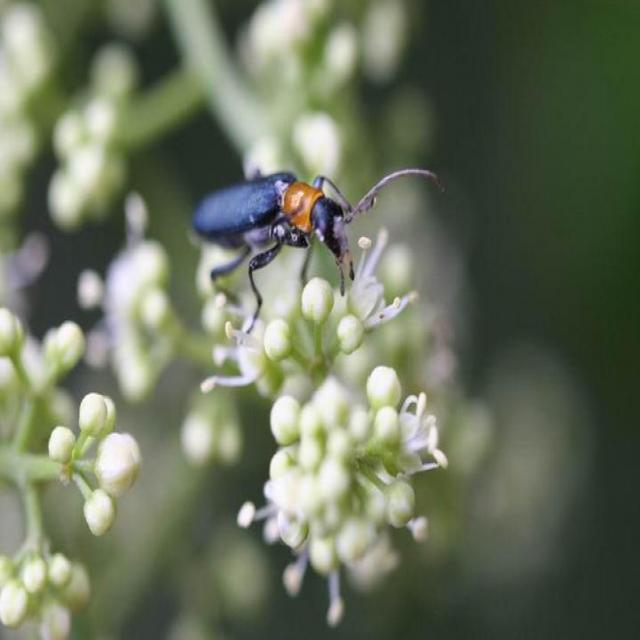BlisterBeetle-Adult-: (197, 163, 452, 321)
